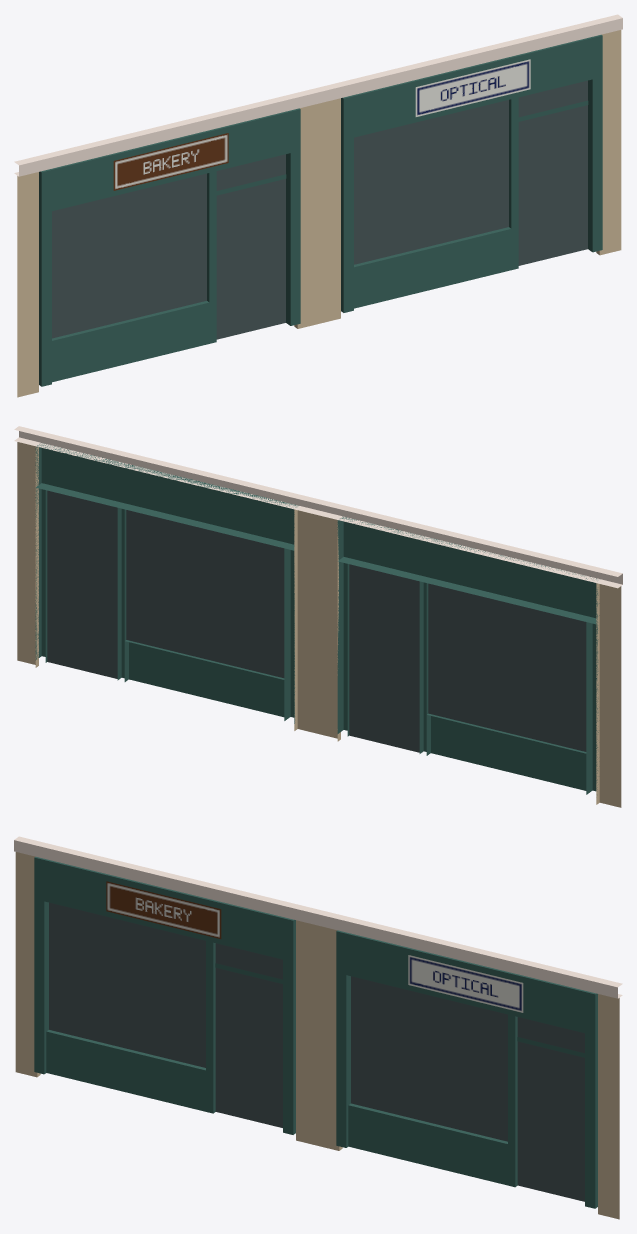
3 renders of one model, top to bottom at view 1: azimuth 30°, elevation 25°; view 2: azimuth 150°, elevation 25°; view 3: azimuth 330°, elevation 25°, orthographic.
Parts seen in each view (by area): view 1: a2006/500/base-w1; view 2: a2006/500/base-w1; view 3: a2006/500/base-w1.
Part boxes in pixels (bbox=[...]): a2006/500/base-w1: bbox=[14, 14, 622, 397]; a2006/500/base-w1: bbox=[14, 426, 622, 807]; a2006/500/base-w1: bbox=[14, 836, 622, 1219].
Size of the model in its own units: 8.4 by 3.1 by 0.151.
